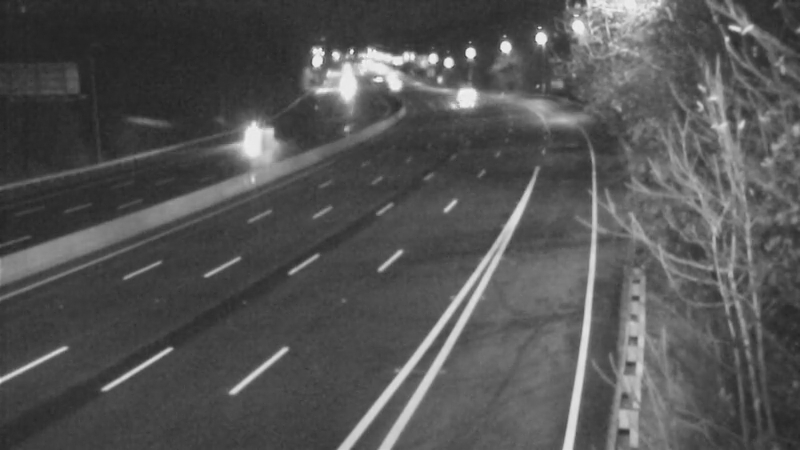vehicle: (372, 59, 422, 109), (433, 63, 483, 113), (435, 79, 485, 129), (221, 122, 271, 172)
